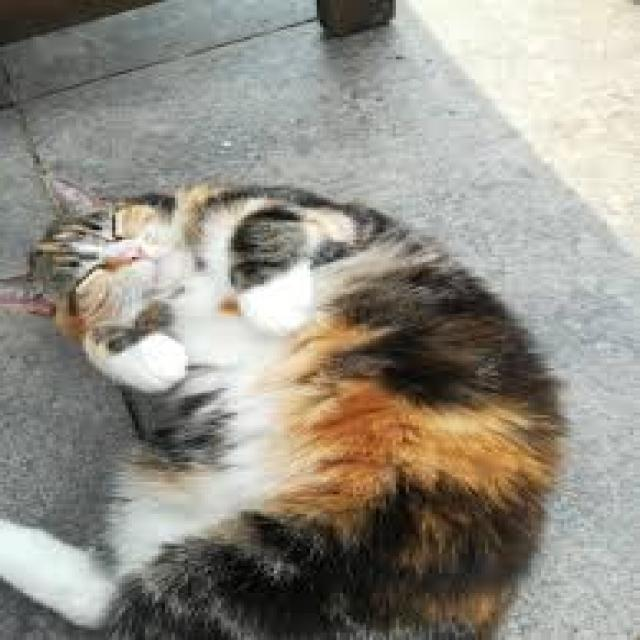cat: (0, 171, 579, 640)
